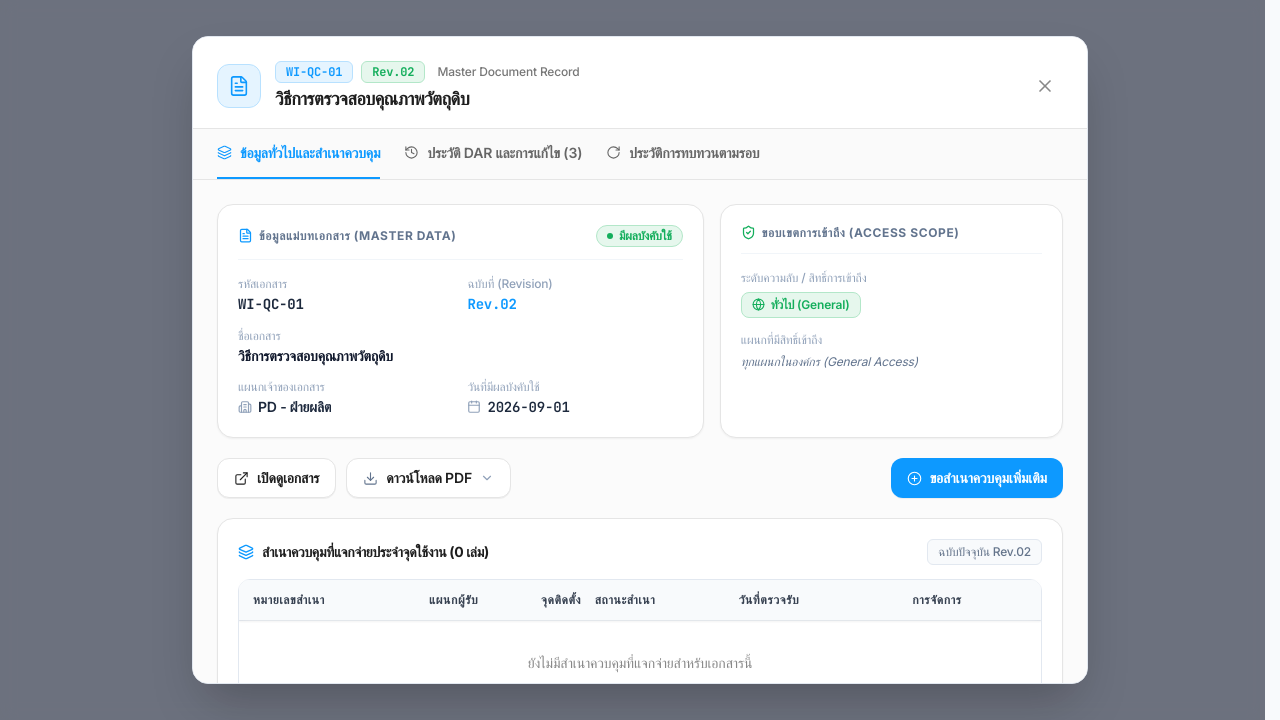
Test: Cumulative DAR History Lineage (Audit Trail <= Current Revision) Tests › 2. Modal Header & Cumulative Timeline Display › Acceptance Criteria: When opening effective document WI-QC-01 Rev.02, tab badge displays "(3)" and renders every DAR newest first
Check: the text "ประวัติ DAR และการแก้ไข (3)" is shown, box x1=428 y1=143 x2=582 y2=163
Click the button "ประวัติ DAR และการแก้ไข (3)".
click(493, 154)  # box x1=404 y1=129 x2=582 y2=179
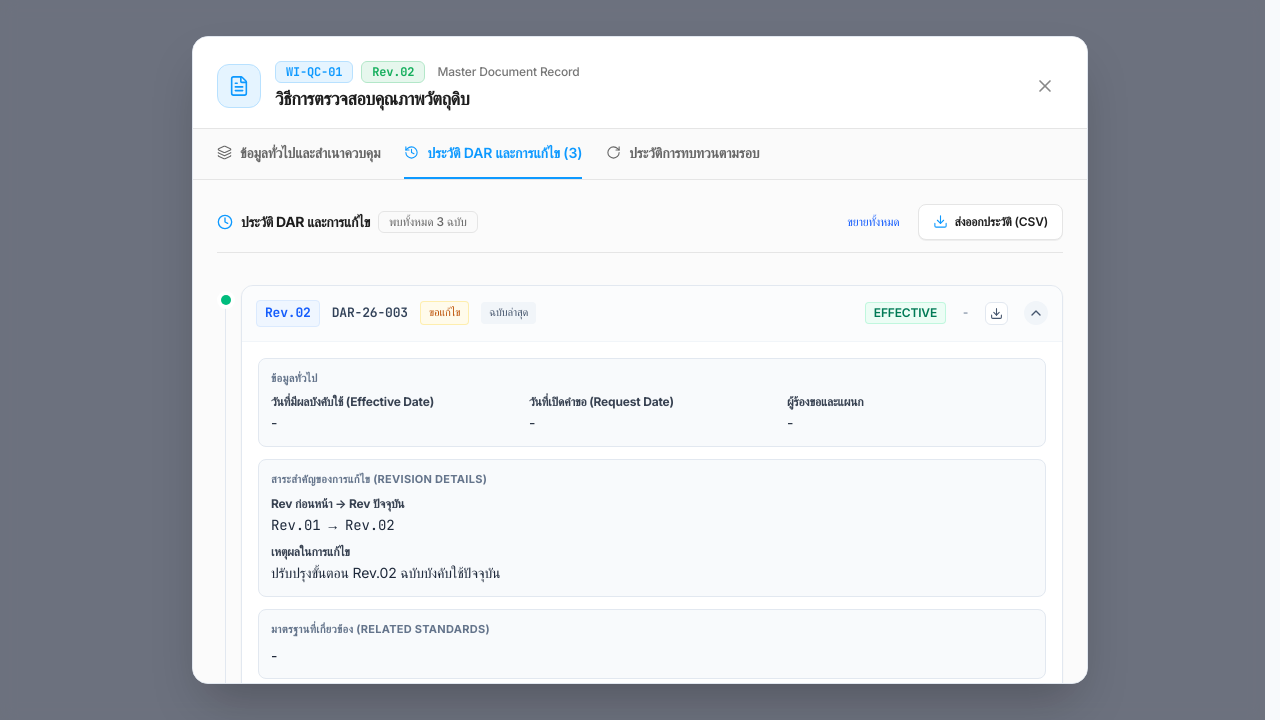
Check: the text "พบทั้งหมด 3 ฉบับ" is shown, box x1=378 y1=211 x2=478 y2=233
